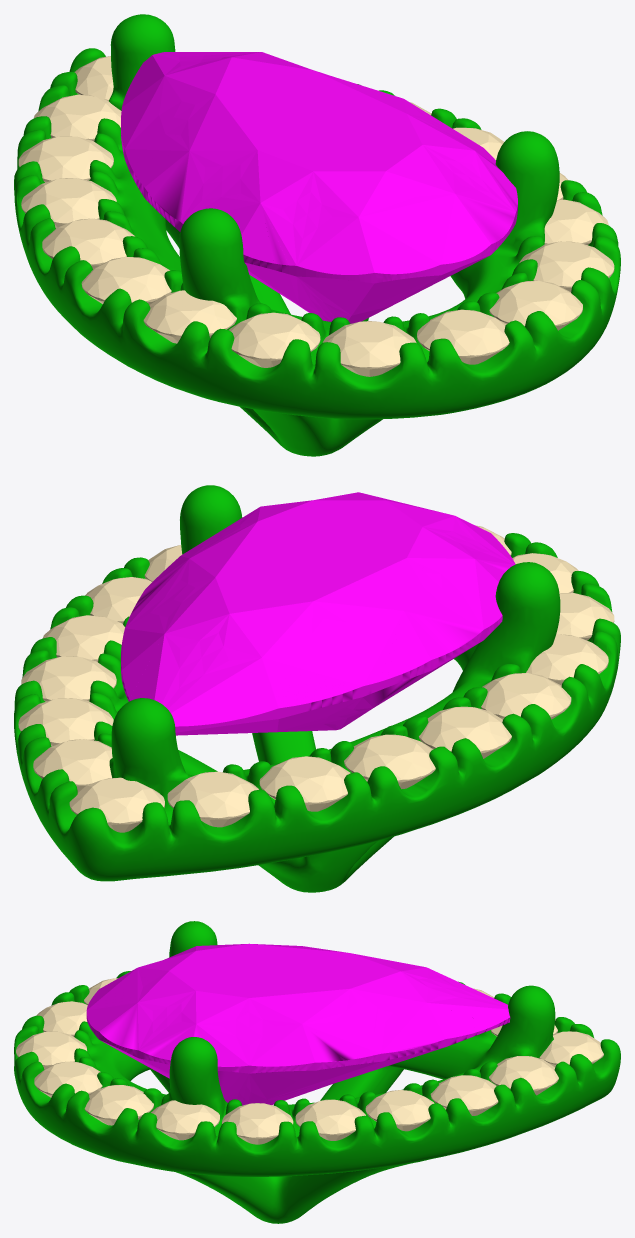
The picture shows the model from 3 angles, top to bottom: view 1: azimuth 30°, elevation 25°; view 2: azimuth 150°, elevation 25°; view 3: azimuth 270°, elevation 25°; orthographic projection. The views are drawn at different scales.
Parts seen in each view (by area): view 1: Metal01, Diamond_Pear, Diamond_Round.011, Diamond_Round.012, Diamond_Round.013, Diamond_Round.010, Diamond_Round.015, Diamond_Round.014, Diamond_Round.017, Diamond_Round, Diamond_Round.016, Diamond_Round.009 (+4 smaller); view 2: Metal01, Diamond_Pear, Diamond_Round.001, Diamond_Round.017, Diamond_Round, Diamond_Round.016, Diamond_Round.002, Diamond_Round.015, Diamond_Round.004, Diamond_Round.005, Diamond_Round.003, Diamond_Round.006 (+5 smaller); view 3: Metal01, Diamond_Pear, Diamond_Round.007, Diamond_Round.006, Diamond_Round.005, Diamond_Round.009, Diamond_Round.004, Diamond_Round.008, Diamond_Round.003, Diamond_Round.010, Diamond_Round.011, Diamond_Round.002 (+1 smaller).
Part boxes in pixels (x1,y1,x2,y2): Metal01: (14, 14, 620, 456); Diamond_Pear: (121, 52, 517, 323); Diamond_Round.011: (417, 309, 509, 364); Diamond_Round.012: (323, 321, 416, 376); Diamond_Round.013: (229, 312, 320, 367); Diamond_Round.010: (489, 280, 582, 330); Diamond_Round.015: (81, 257, 171, 304); Diamond_Round.014: (143, 290, 236, 343); Diamond_Round.017: (21, 178, 116, 228); Diamond_Round: (18, 136, 113, 182); Diamond_Round.016: (42, 218, 134, 268); Diamond_Round.009: (519, 241, 614, 291); Metal01: (14, 485, 620, 892); Diamond_Pear: (121, 492, 515, 735); Diamond_Round.001: (167, 771, 258, 827); Diamond_Round.017: (344, 734, 435, 789); Diamond_Round: (259, 756, 350, 811); Diamond_Round.016: (419, 706, 511, 758); Diamond_Round.002: (69, 777, 164, 832); Diamond_Round.015: (481, 673, 571, 719); Diamond_Round.004: (18, 698, 113, 746); Diamond_Round.005: (21, 656, 116, 701); Diamond_Round.003: (33, 739, 112, 790); Diamond_Round.006: (42, 615, 124, 661); Metal01: (14, 921, 620, 1223); Diamond_Pear: (86, 943, 510, 1105); Diamond_Round.007: (222, 1103, 293, 1144); Diamond_Round.006: (295, 1099, 365, 1140); Diamond_Round.005: (365, 1090, 434, 1131); Diamond_Round.009: (84, 1085, 153, 1125); Diamond_Round.004: (430, 1075, 498, 1115); Diamond_Round.008: (151, 1100, 219, 1140); Diamond_Round.003: (489, 1056, 558, 1095); Diamond_Round.010: (34, 1061, 102, 1097); Diamond_Round.011: (16, 1031, 87, 1069); Diamond_Round.002: (539, 1031, 603, 1067).
Bounding box in the file's own units: 9.91 × 6.51 × 14.5.
